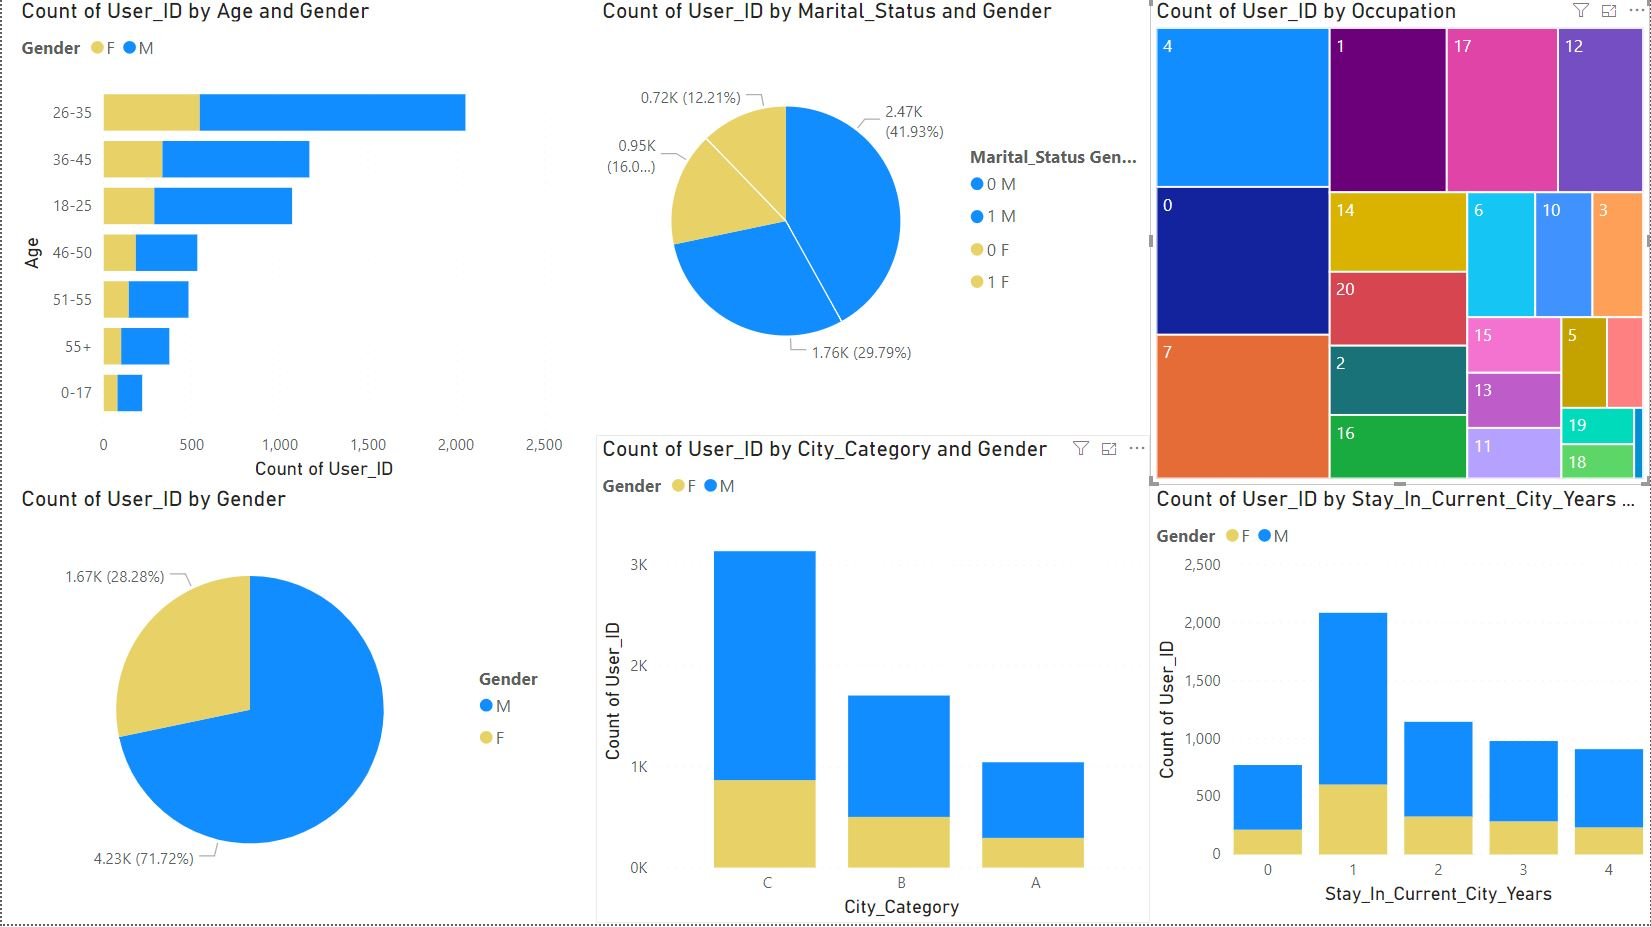

This screenshot's page, from the dashboard's own definition file:
{"tool":"powerbi","page":{"name":"Page 1","canvas":[1280,720],"ordinal":0},"visuals":[{"type":"barChart","fields":{"Category":["train.Age"],"Y":["Count(train.User_ID)"],"Series":["train.Gender"]},"box":[10,0,431.3,379.3],"z":0},{"type":"pieChart","fields":{"Category":["train.Gender"],"Y":["Count(train.User_ID)"]},"box":[10,379.3,431.3,330.3],"z":1000},{"type":"columnChart","fields":{"Category":["train.City_Category"],"Y":["Count(train.User_ID)"],"Series":["train.Gender"]},"box":[461.4,340.3,430.3,379.3],"z":2000},{"type":"treemap","fields":{"Group":["train.Occupation"],"Values":["Count(train.User_ID)"]},"box":[892,0,388,379],"z":3000},{"type":"columnChart","fields":{"Category":["train.Stay_In_Current_City_Years"],"Y":["Count(train.User_ID)"],"Series":["train.Gender"]},"box":[892,379,388,330],"z":4000},{"type":"pieChart","fields":{"Category":["train.Marital_Status","train.Gender"],"Y":["Count(train.User_ID)"]},"box":[461.4,0,430.3,329.3],"z":5000}]}

Visuals, with their boxes in screenshot pixels (x1, y1, x2, y2), scaled from the page's 1280x720 canvas onto the 1651x927 screenshot:
barChart - train.Age x Count(train.User_ID): <region>13, 0, 569, 488</region>
pieChart - train.Gender x Count(train.User_ID): <region>13, 488, 569, 914</region>
columnChart - train.City_Category x Count(train.User_ID): <region>595, 438, 1150, 926</region>
treemap - train.Occupation x Count(train.User_ID): <region>1151, 0, 1650, 488</region>
columnChart - train.Stay_In_Current_City_Years x Count(train.User_ID): <region>1151, 488, 1650, 913</region>
pieChart - train.Marital_Status x train.Gender: <region>595, 0, 1150, 424</region>
